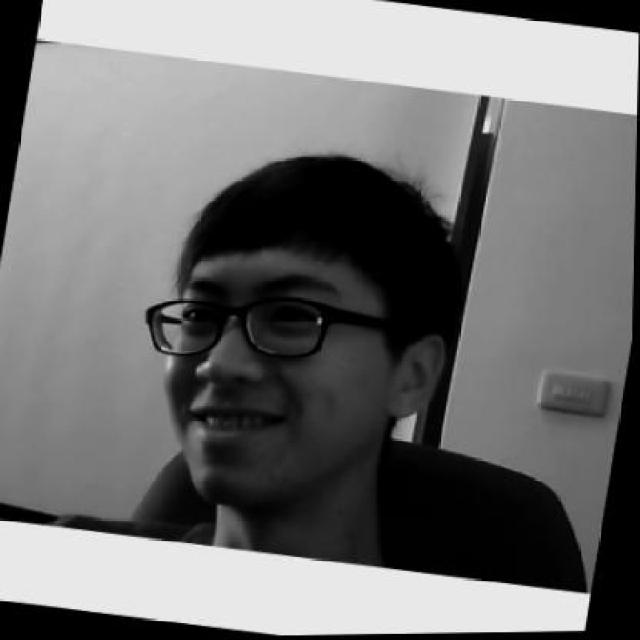attentif: (117, 132, 475, 526)
